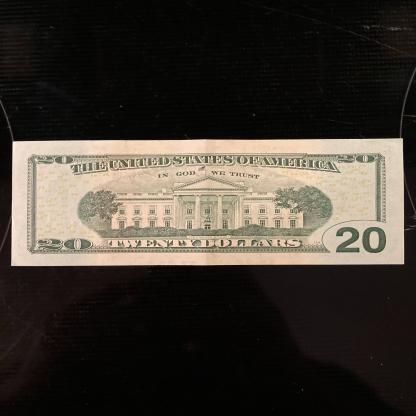twenty-back: (12, 138, 406, 267)
